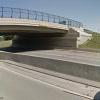Bridge: (4, 3, 95, 52)
